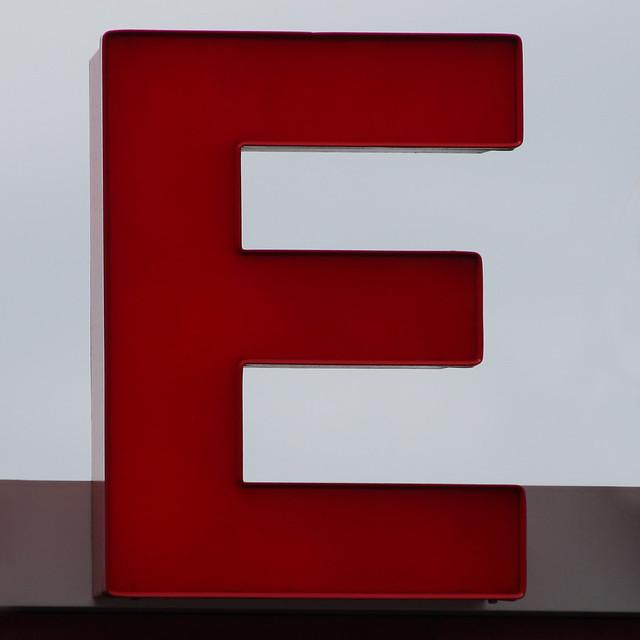E: (63, 17, 566, 624)
